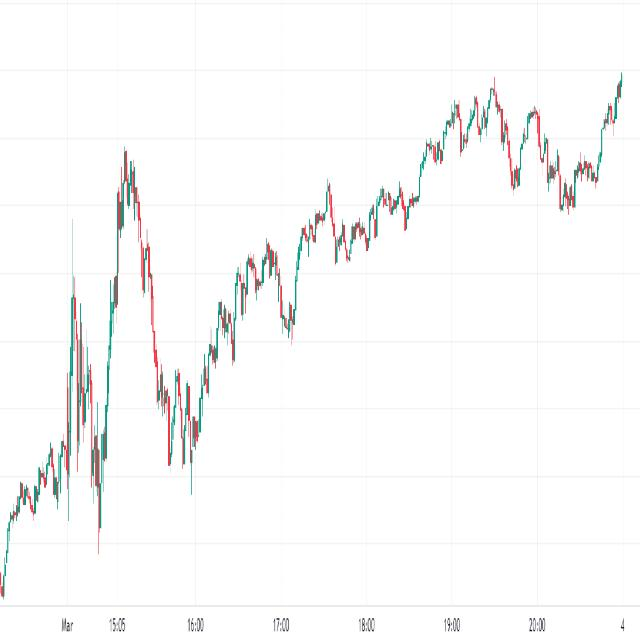Ascending-Triangle: (47, 66, 640, 640)
